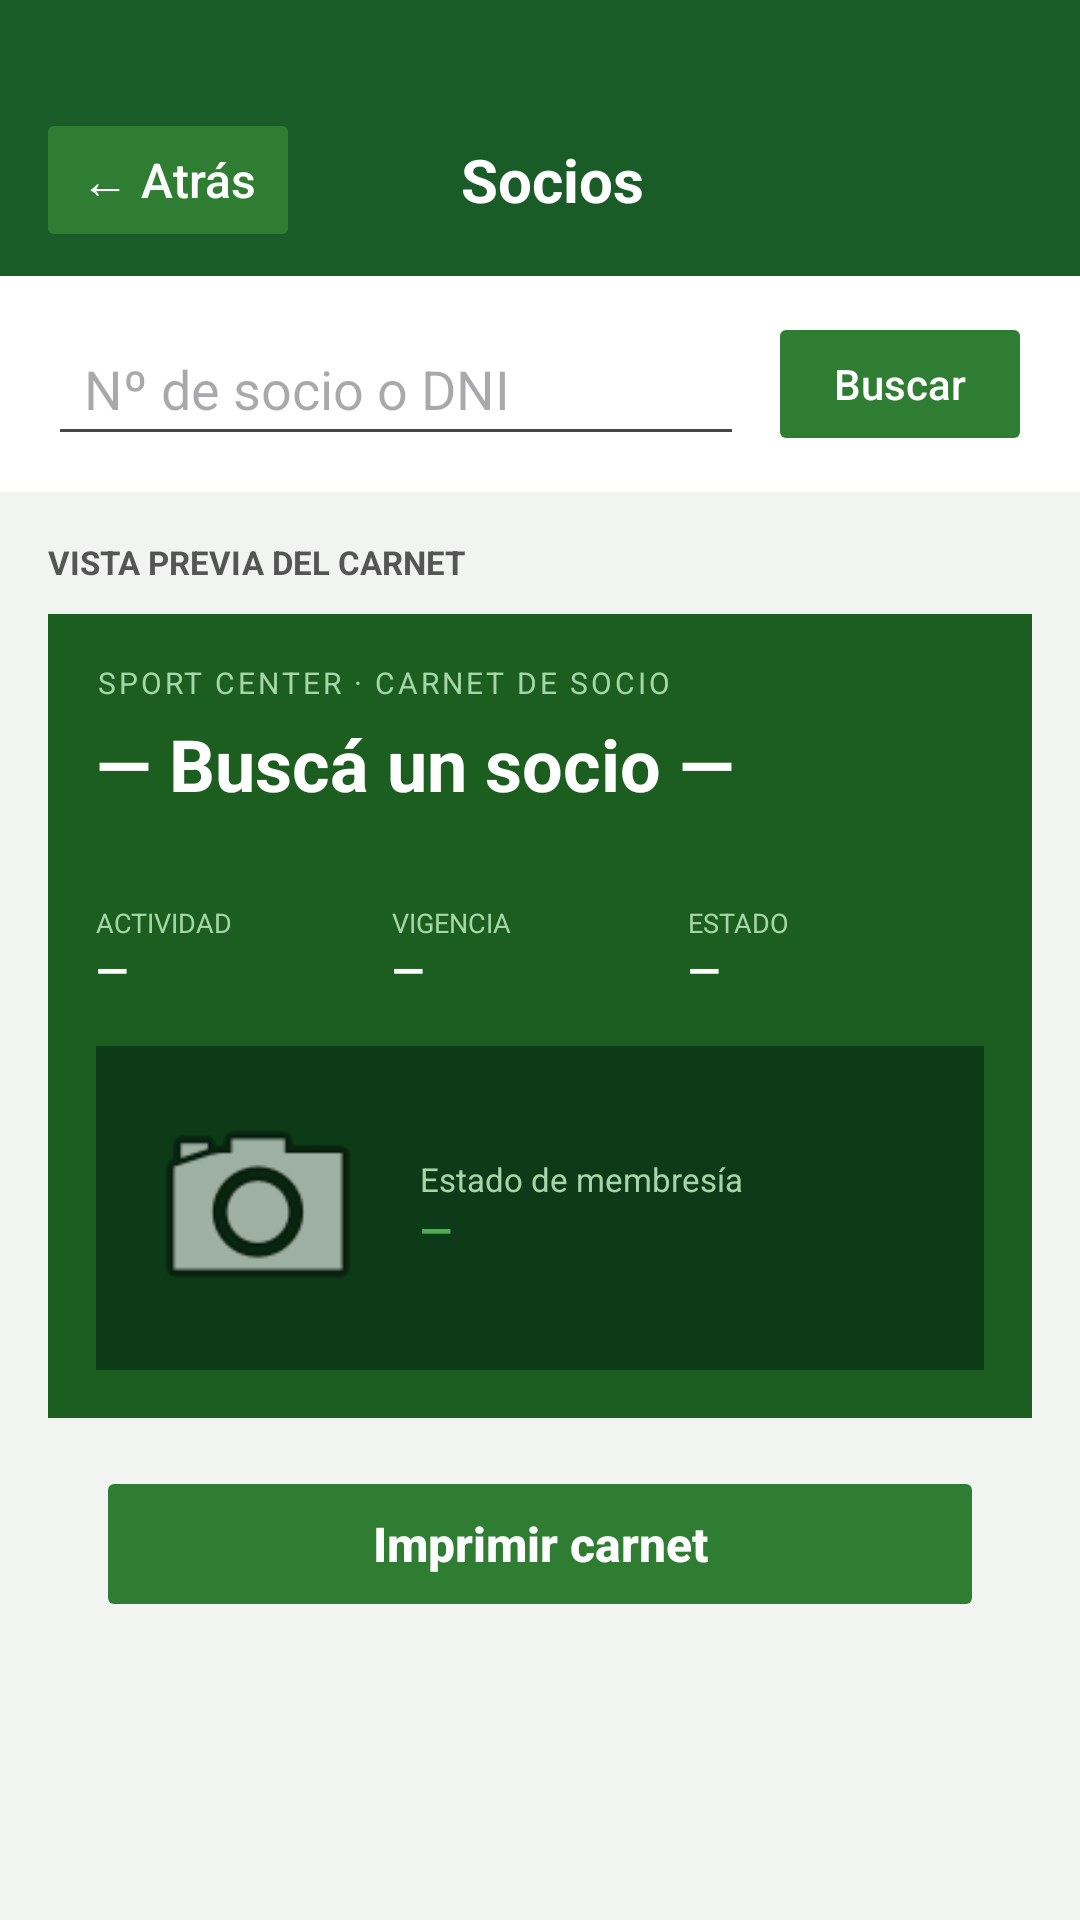

Where icons sit on this 1080 × 1920 app screen, as bbox=[x1, y1, x2, y2]:
camera: bbox=[170, 1135, 346, 1274]
